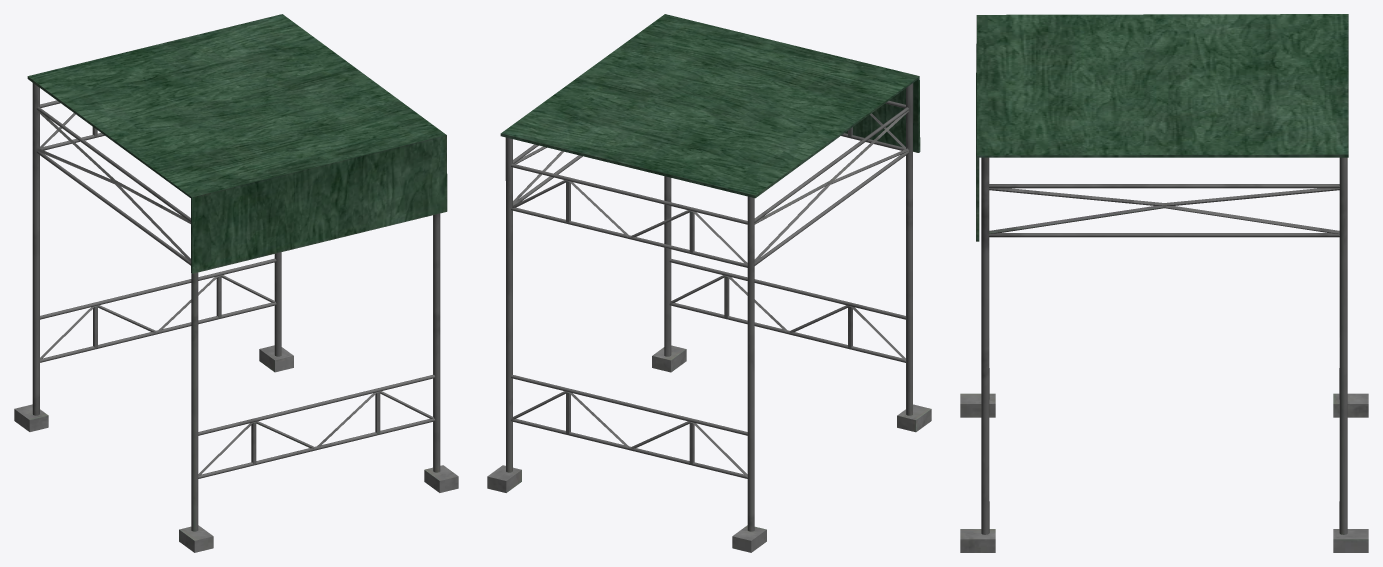
The model's file is shed.glb.
3 views of the same model, side by side, from view 1: azimuth 30°, elevation 25°; view 2: azimuth 150°, elevation 25°; view 3: azimuth 270°, elevation 25° (orthographic). The views are drawn at different scales.
Parts seen in each view (by area): view 1: shed; view 2: shed; view 3: shed.
Boxes of the visible parts, <box> form: shed: <box>14,14,458,552</box>; shed: <box>487,14,931,552</box>; shed: <box>960,14,1368,552</box>.
Bounding box in the file's own units: 2.92 × 3.7 × 3.46.
Materials: 1 (1 with a texture image).
